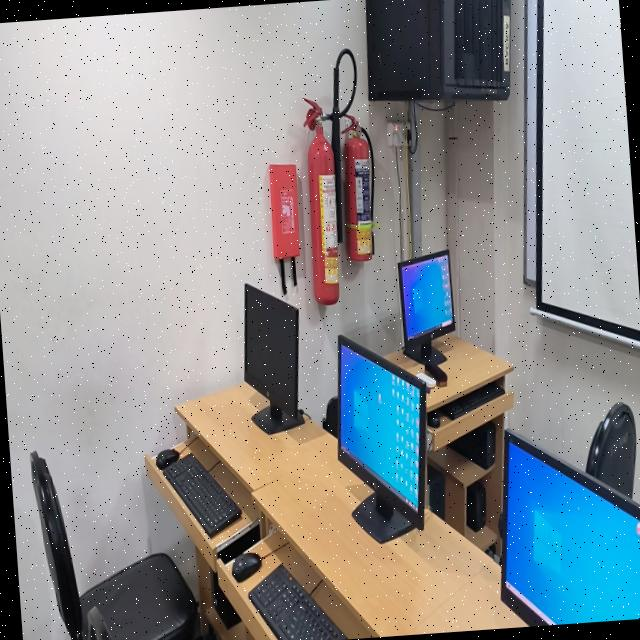Chair: (29, 449, 197, 640), (584, 401, 635, 496), (84, 605, 112, 640), (321, 395, 337, 436)
Cpu: (210, 569, 240, 628), (216, 521, 259, 562)
Fire Extinguisher: (306, 123, 338, 304), (343, 133, 371, 259)
Keyboard: (247, 563, 347, 640), (162, 453, 240, 537)
Monitor: (500, 429, 640, 626), (336, 335, 425, 542), (243, 283, 304, 433), (396, 248, 454, 367)
Mouse: (231, 551, 261, 581), (154, 447, 178, 468), (426, 410, 439, 426)
